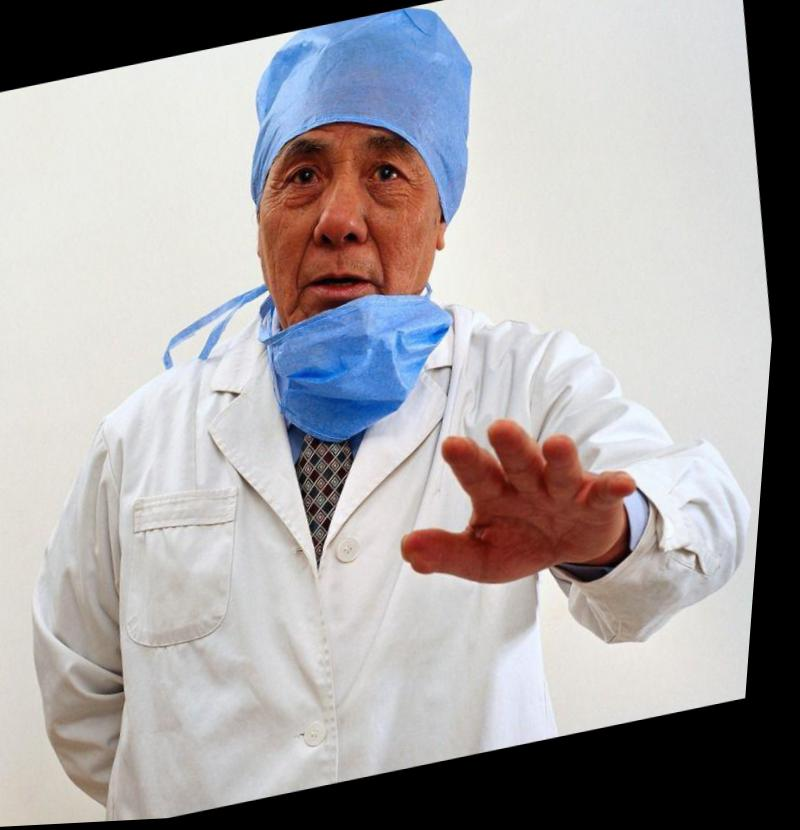WRONG: (231, 107, 484, 404)
